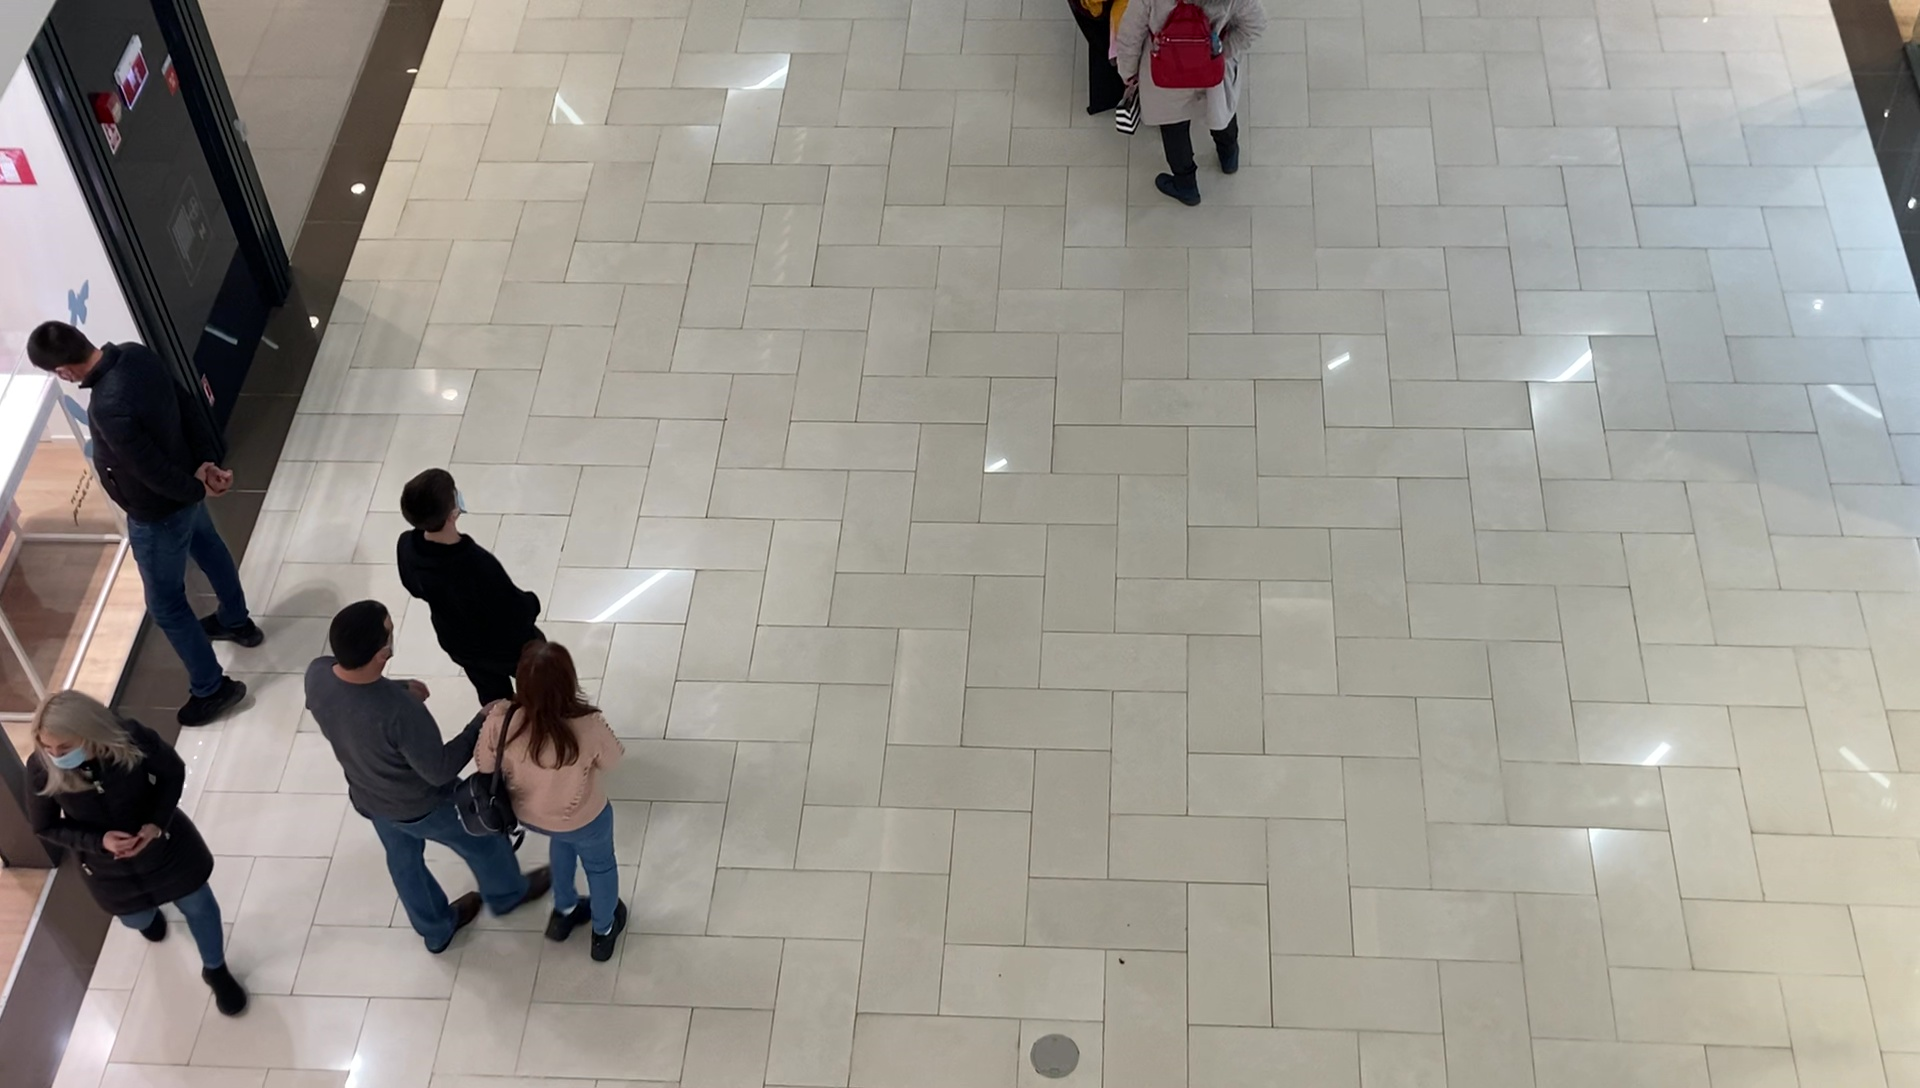person: (27, 320, 265, 724), (23, 694, 260, 1019), (303, 601, 482, 955), (476, 643, 633, 962), (396, 469, 544, 695), (1115, 1, 1268, 213)
